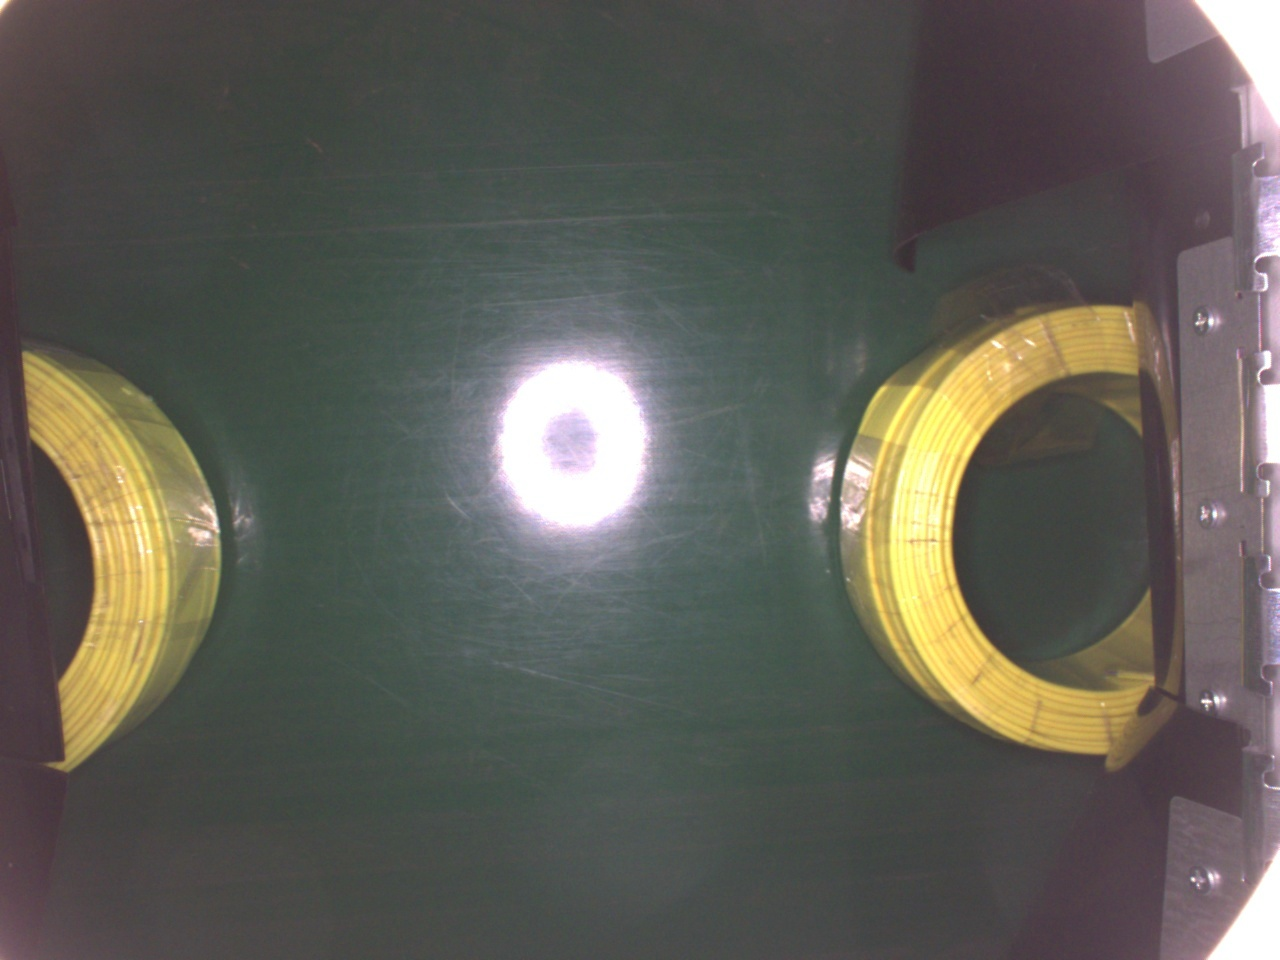yellow: (833, 295, 1161, 756), (16, 325, 221, 775)
